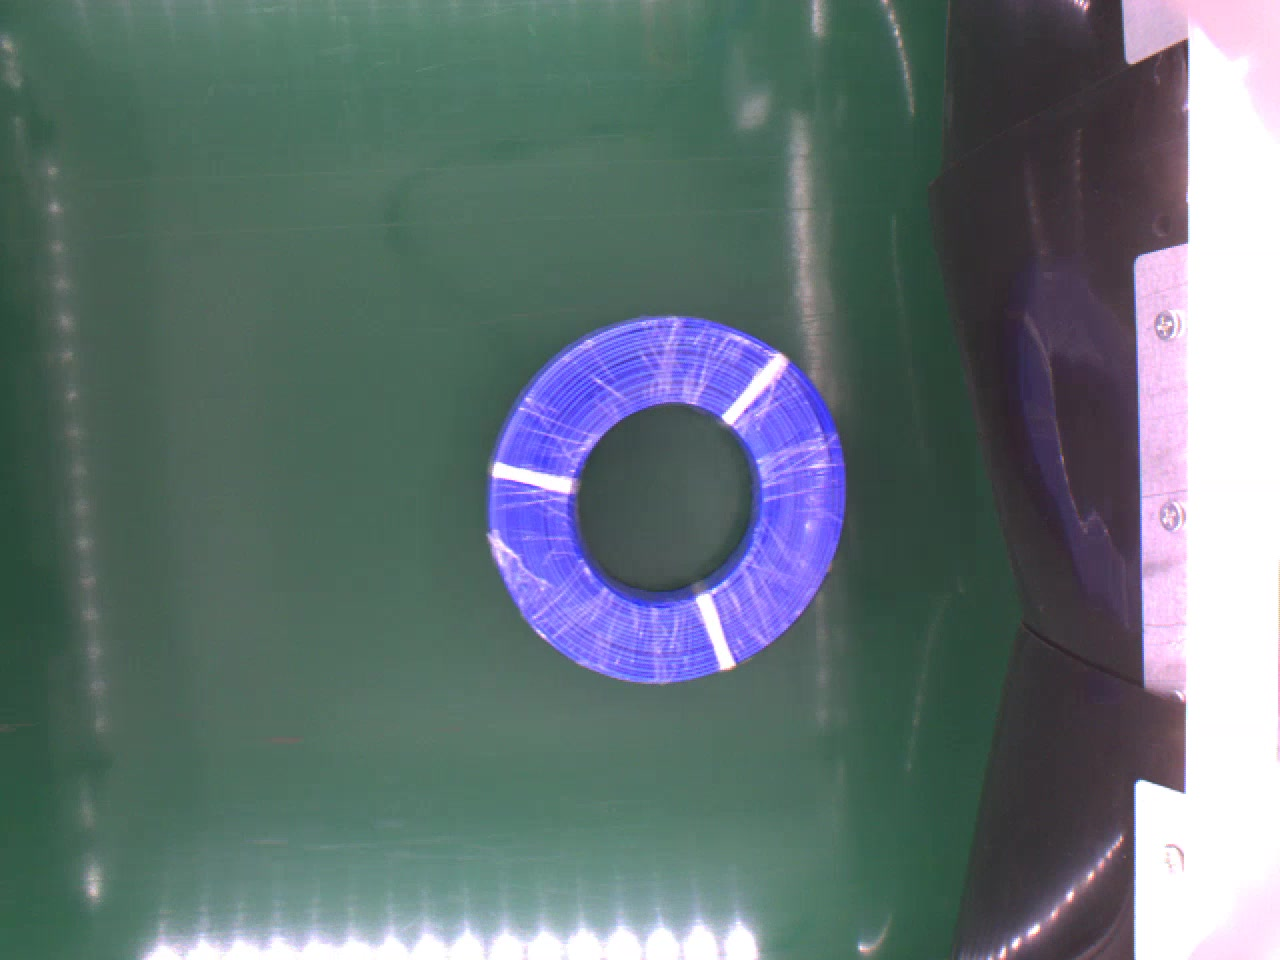blue: (477, 305, 852, 686)
